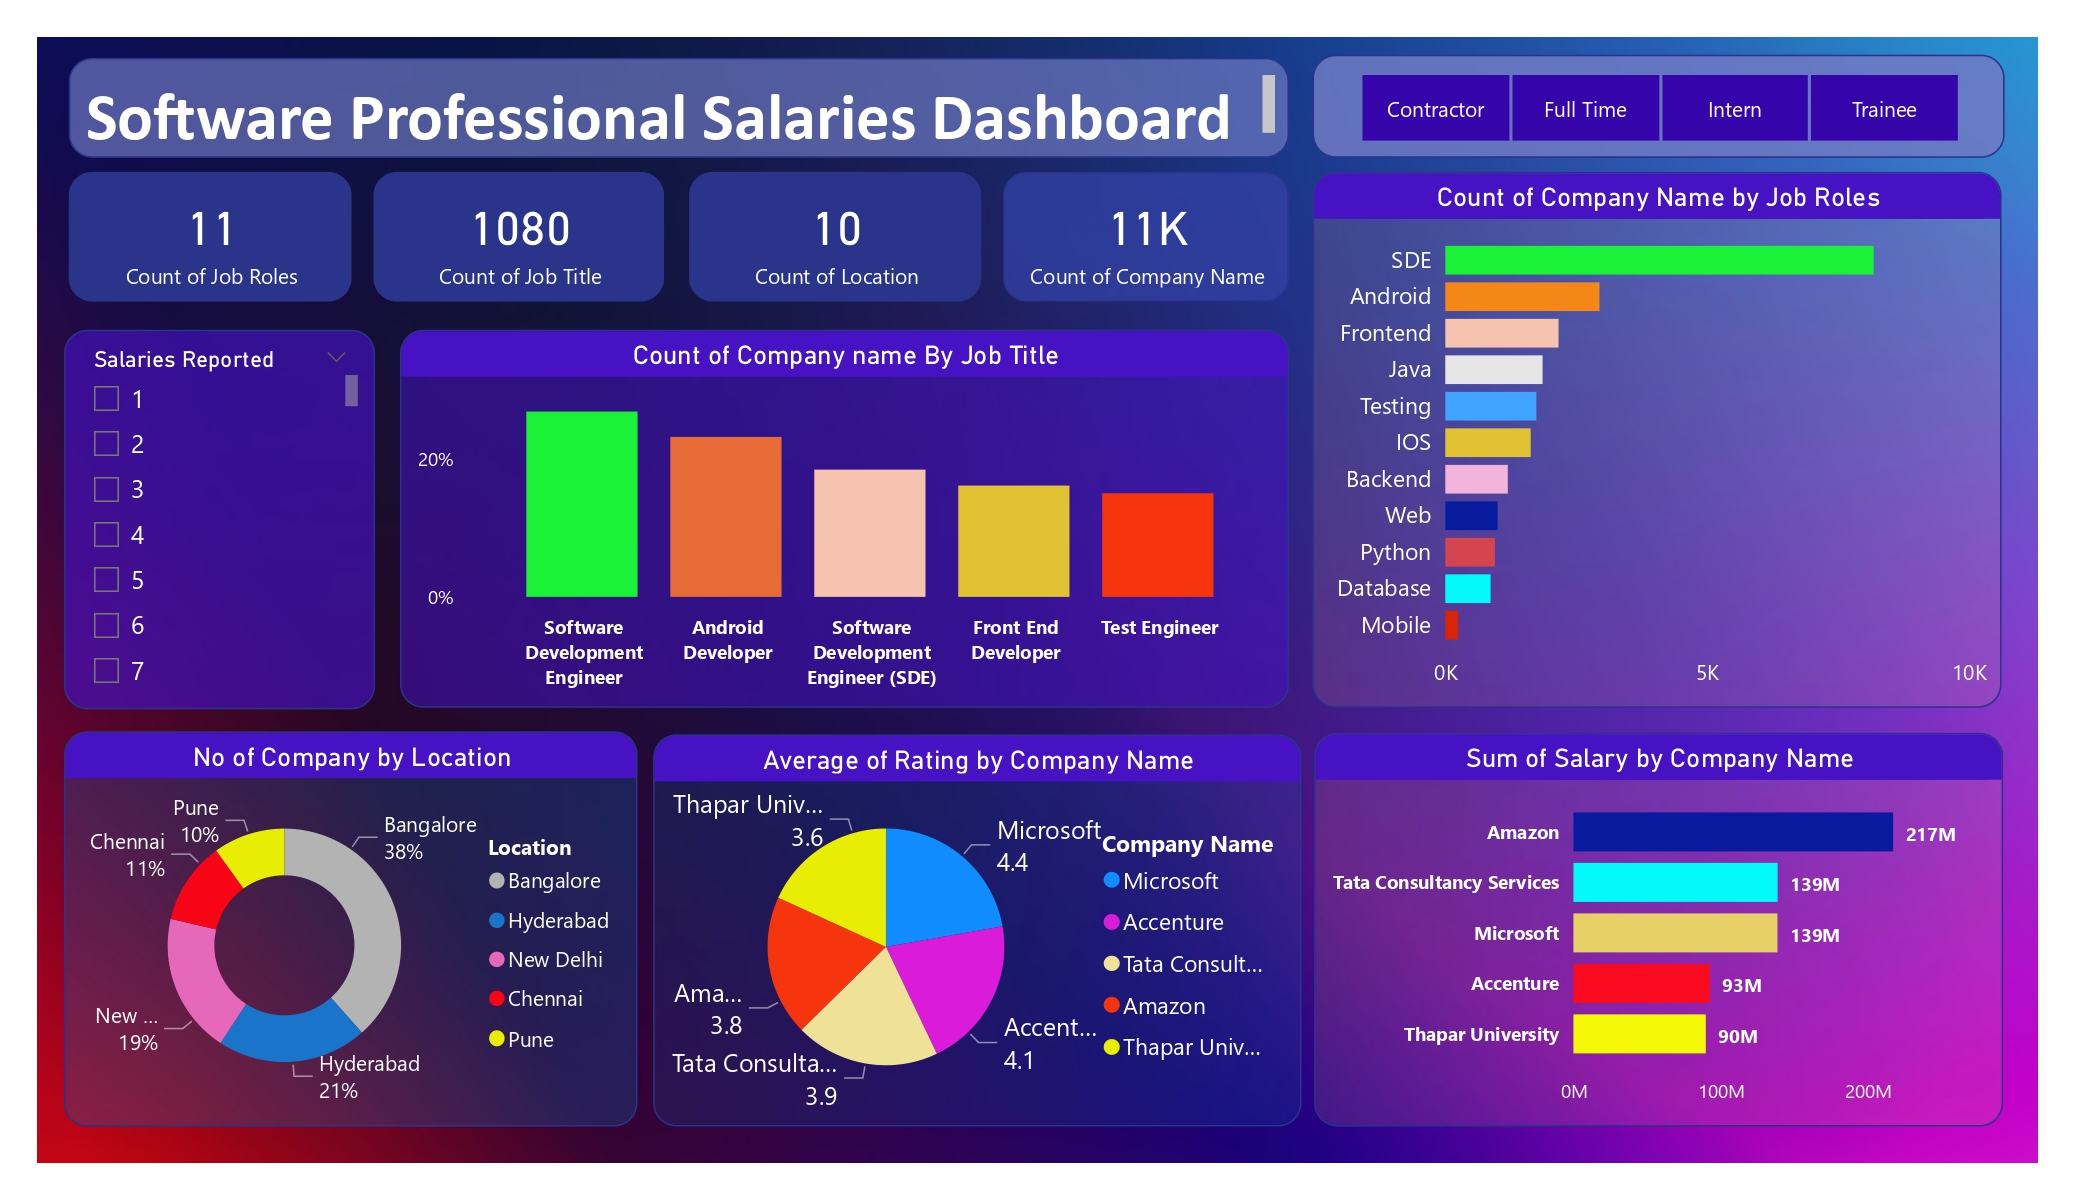

The page's visual inventory and layout, read from the dashboard file:
{"tool":"powerbi","page":{"name":"Page 1","canvas":[1280,720],"ordinal":0},"visuals":[{"type":"columnChart","title":"Count of Company name By Job Title","fields":{"Category":["Salary_Dataset_with_Extra_Features.Job Title"],"Y":["CountNonNull(Salary_Dataset_with_Extra_Features.Company Name)"]},"box":[232.4,187.1,568.3,242.4],"z":0},{"type":"clusteredBarChart","title":"Count of Company Name by Job Roles","fields":{"Category":["Salary_Dataset_with_Extra_Features.Job Roles"],"Y":["CountNonNull(Salary_Dataset_with_Extra_Features.Company Name)"]},"box":[816.4,86.5,440.8,343],"z":1000},{"type":"clusteredBarChart","fields":{"Category":["Salary_Dataset_with_Extra_Features.Company Name"],"Y":["Sum(Salary_Dataset_with_Extra_Features.Salary)"]},"box":[816.8,445.2,441.3,251.6],"z":2000},{"type":"donutChart","title":"No of Company by Location","fields":{"Category":["Salary_Dataset_with_Extra_Features.Location"],"Y":["CountNonNull(Salary_Dataset_with_Extra_Features.Company Name)"]},"box":[17.1,444.3,367.1,252.9],"z":3000},{"type":"pieChart","fields":{"Category":["Salary_Dataset_with_Extra_Features.Company Name"],"Y":["Avg(Salary_Dataset_with_Extra_Features.Rating)"]},"box":[394.3,445.7,414.3,251.4],"z":4000},{"type":"slicer","fields":{"Values":["Salary_Dataset_with_Extra_Features.Employment Status"]},"box":[816.4,11.3,442.2,65.2],"z":5000},{"type":"card","fields":{"Values":["Count(Salary_Dataset_with_Extra_Features.Company Name)"]},"box":[618,86.5,182.8,82.2],"z":6000},{"type":"card","fields":{"Values":["Count(Salary_Dataset_with_Extra_Features.Location)"]},"box":[416.7,86.5,187.1,82.2],"z":7000},{"type":"card","fields":{"Values":["Count(Salary_Dataset_with_Extra_Features.Job Roles)"]},"box":[19.8,86.5,181.4,82.2],"z":8000},{"type":"card","fields":{"Values":["Count(Salary_Dataset_with_Extra_Features.Job Title)"]},"box":[215.4,86.5,185.7,82.2],"z":9000},{"type":"textbox","box":[19.8,12.8,780.9,63.8],"z":10000},{"type":"slicer","fields":{"Values":["Salary_Dataset_with_Extra_Features.Salaries Reported"]},"box":[17.1,187.1,198.6,242.9],"z":11000}]}

Visuals, with their boxes on the page's 1280x720 design canvas (x1, y1, x2, y2). These are canvas units, not pixel positions in the 2075x1200 screenshot, which may show the page scaled, cropped or inside an application window:
"Count of Company name By Job Title" columnChart: pyautogui.locateOnScreen(232, 187, 801, 430)
"Count of Company Name by Job Roles" clusteredBarChart: pyautogui.locateOnScreen(816, 86, 1257, 430)
clusteredBarChart - Salary_Dataset_with_Extra_Features.Company Name x Sum(Salary_Dataset_with_Extra_Features.Salary): pyautogui.locateOnScreen(817, 445, 1258, 697)
"No of Company by Location" donutChart: pyautogui.locateOnScreen(17, 444, 384, 697)
pieChart - Salary_Dataset_with_Extra_Features.Company Name x Avg(Salary_Dataset_with_Extra_Features.Rating): pyautogui.locateOnScreen(394, 446, 809, 697)
slicer - Salary_Dataset_with_Extra_Features.Employment Status: pyautogui.locateOnScreen(816, 11, 1259, 76)
card - Count(Salary_Dataset_with_Extra_Features.Company Name): pyautogui.locateOnScreen(618, 86, 801, 169)
card - Count(Salary_Dataset_with_Extra_Features.Location): pyautogui.locateOnScreen(417, 86, 604, 169)
card - Count(Salary_Dataset_with_Extra_Features.Job Roles): pyautogui.locateOnScreen(20, 86, 201, 169)
card - Count(Salary_Dataset_with_Extra_Features.Job Title): pyautogui.locateOnScreen(215, 86, 401, 169)
textbox: pyautogui.locateOnScreen(20, 13, 801, 77)
slicer - Salary_Dataset_with_Extra_Features.Salaries Reported: pyautogui.locateOnScreen(17, 187, 216, 430)
